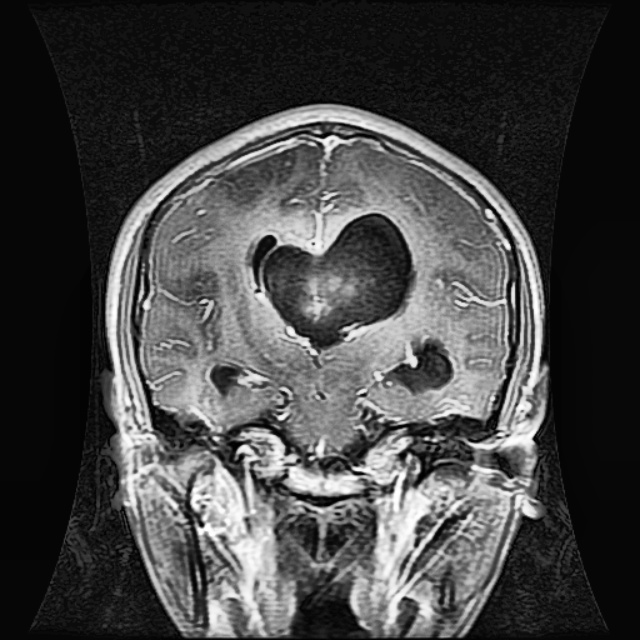Meningioma: (247, 209, 417, 354)
